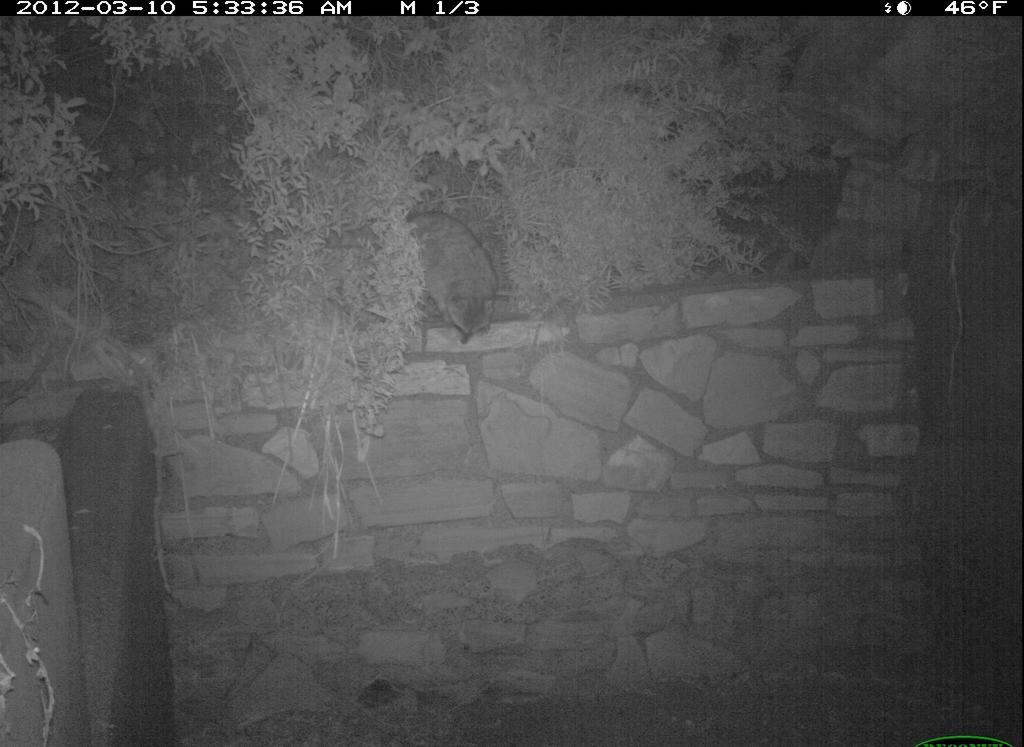raccoon: (304, 204, 506, 349)
